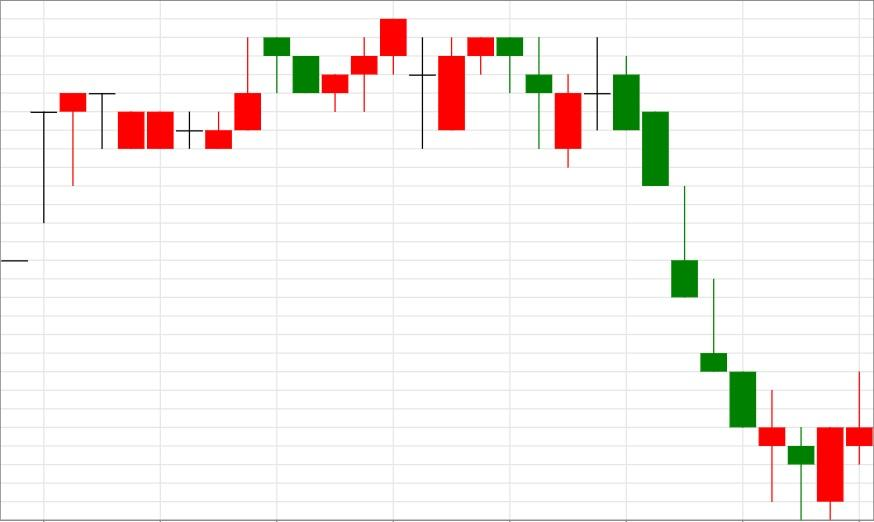bullish_engulfing_rise: (612, 54, 844, 522)
hanging_man_fall: (0, 93, 87, 263), (408, 37, 524, 149), (205, 36, 291, 149)
three_white_soldiers_rise: (263, 18, 408, 112)
